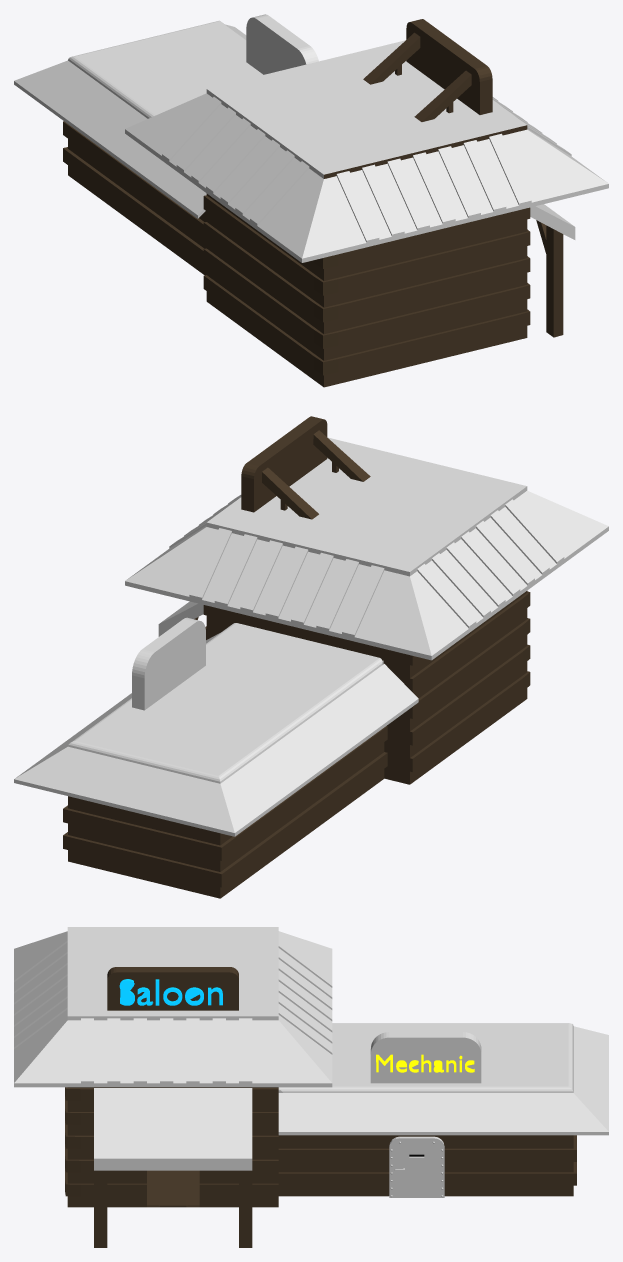
The model's file is Saloon.fbx.
3 views of the same model, one above another, from view 1: azimuth 30°, elevation 25°; view 2: azimuth 150°, elevation 25°; view 3: azimuth 270°, elevation 25° (orthographic). The views are drawn at different scales.
Parts seen in each view (by area): view 1: Saloon; view 2: Saloon; view 3: Saloon.
Part boxes in pixels (<box>): Saloon: <box>14,14,608,387</box>; Saloon: <box>14,416,608,898</box>; Saloon: <box>14,927,608,1247</box>.
Bounding box in the file's own units: 3045 × 2526 × 5496.
